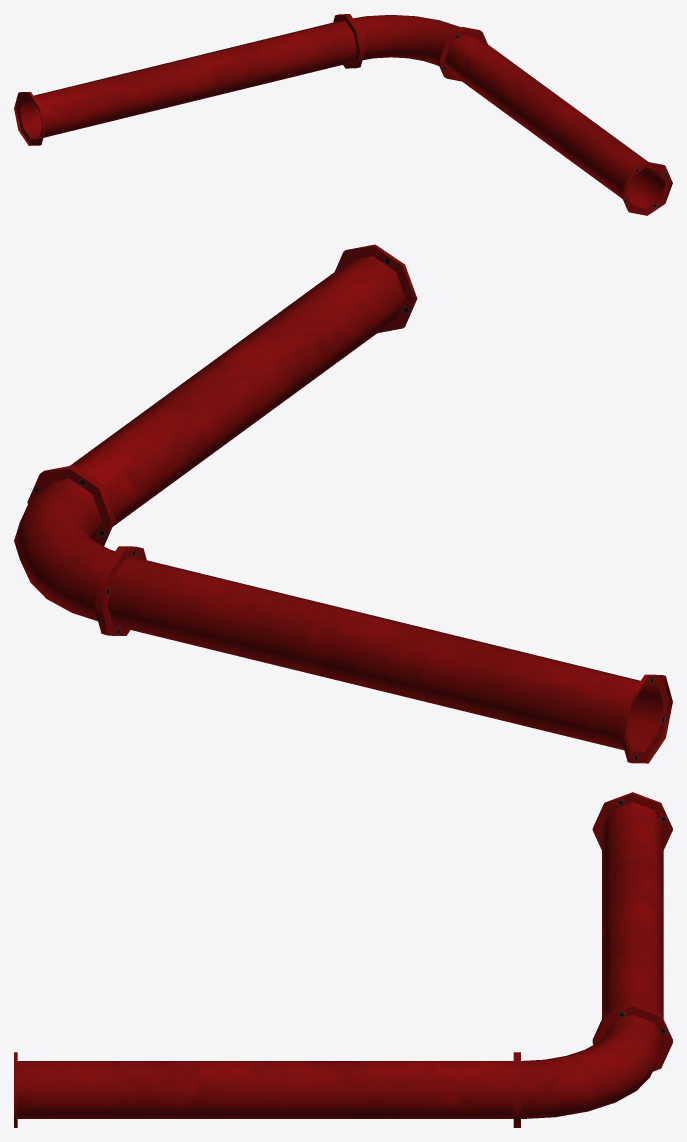
File: PipeBig_1m_L.FBX
3 renders of one model, top to bottom at view 1: azimuth 30°, elevation 25°; view 2: azimuth 150°, elevation 25°; view 3: azimuth 270°, elevation 25°, orthographic. The views are drawn at different scales.
Visible parts, largest first — view 1: PipeBig_1m_L; view 2: PipeBig_1m_L; view 3: PipeBig_1m_L.
Part boxes in pixels (x1,y1,x2,y2): PipeBig_1m_L: (14,14,672,215); PipeBig_1m_L: (14,244,672,763); PipeBig_1m_L: (14,792,672,1127).
Size of the model in its own units: 41.93 by 5.12 by 41.93.
